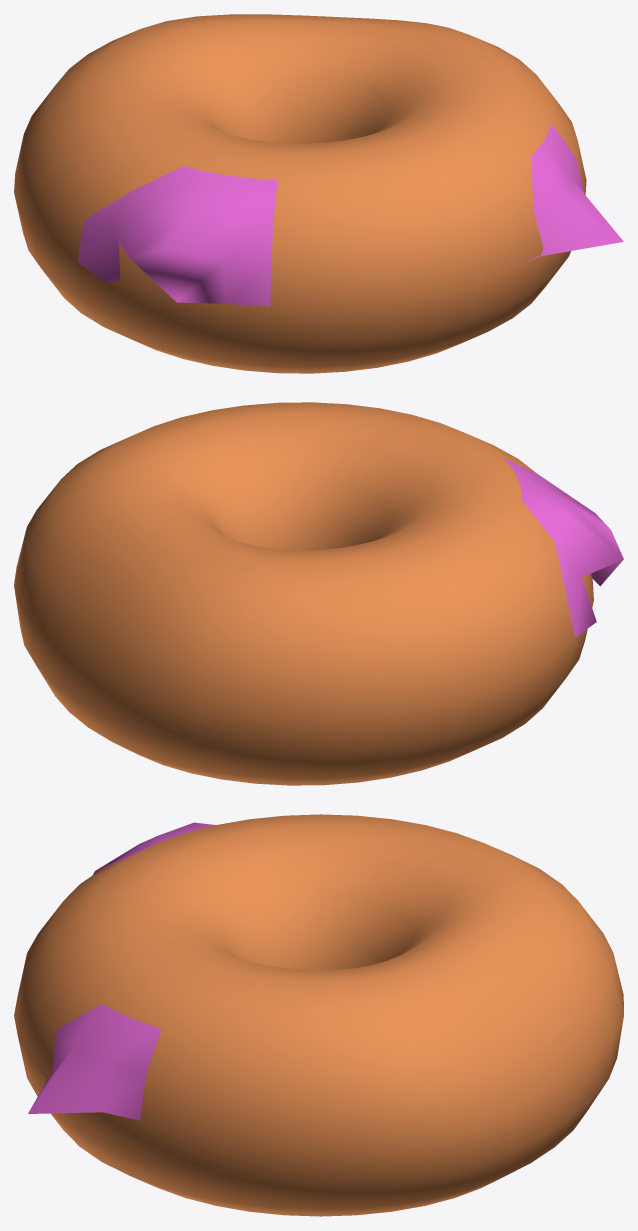
The model's file is donut.glb.
3 renders of one model, top to bottom at view 1: azimuth 30°, elevation 25°; view 2: azimuth 150°, elevation 25°; view 3: azimuth 270°, elevation 25°, orthographic. The views are drawn at different scales.
Parts seen in each view (by area): view 1: Donut, Icing; view 2: Donut, Icing; view 3: Donut, Icing.
Boxes of the visible parts, x1,y1,x2,y2 form: Donut: (14, 14, 586, 373); Icing: (77, 124, 623, 306); Donut: (14, 402, 593, 785); Icing: (503, 458, 623, 637); Donut: (14, 814, 623, 1216); Icing: (28, 822, 215, 1120).
Size of what is drawn, in the model's own units: 0.0995 by 0.0401 by 0.0989.
